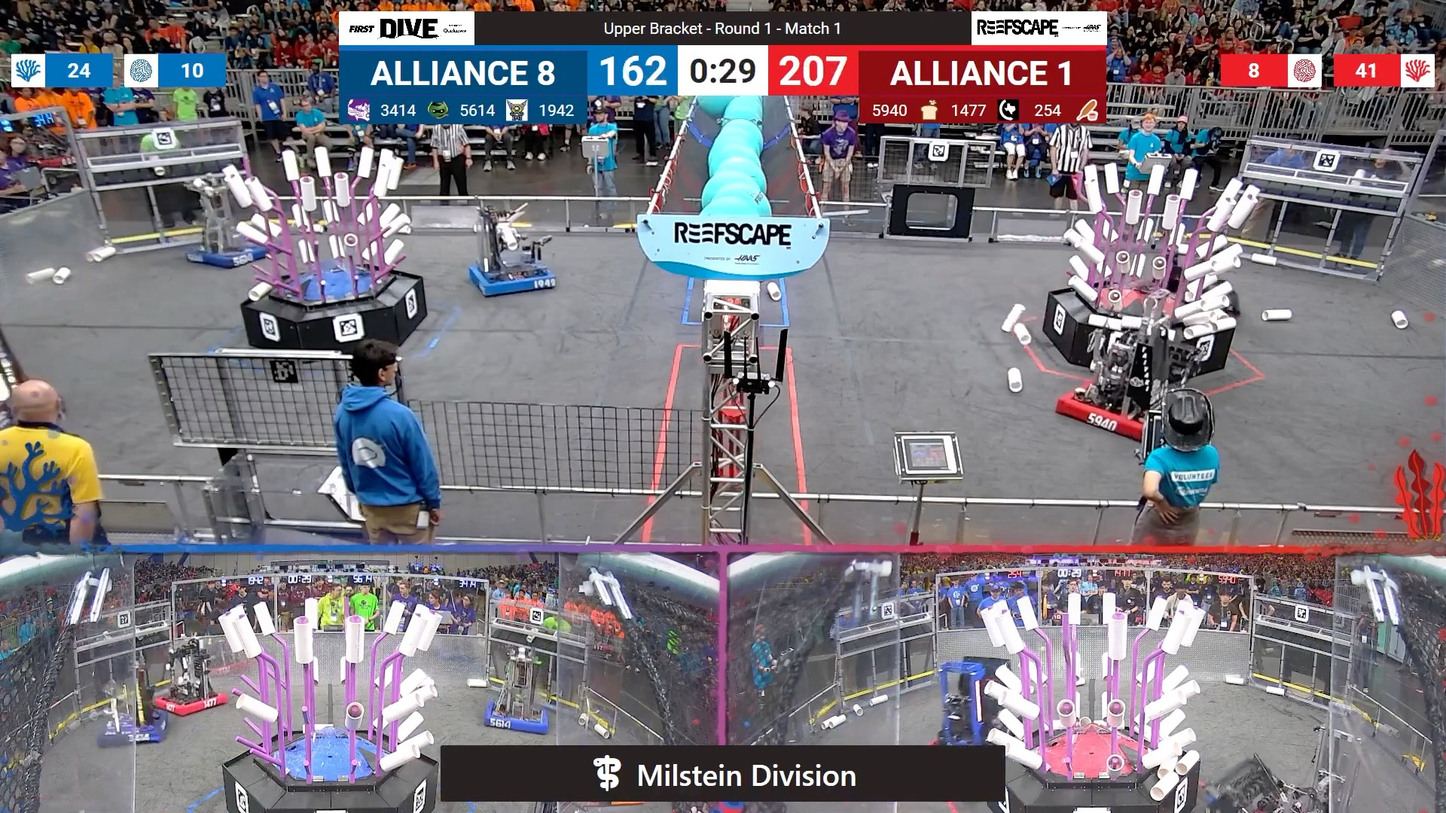bumpers: (1050, 379, 1193, 447), (461, 255, 561, 300), (97, 708, 176, 751), (183, 238, 279, 273), (481, 698, 559, 738), (149, 689, 236, 721)
